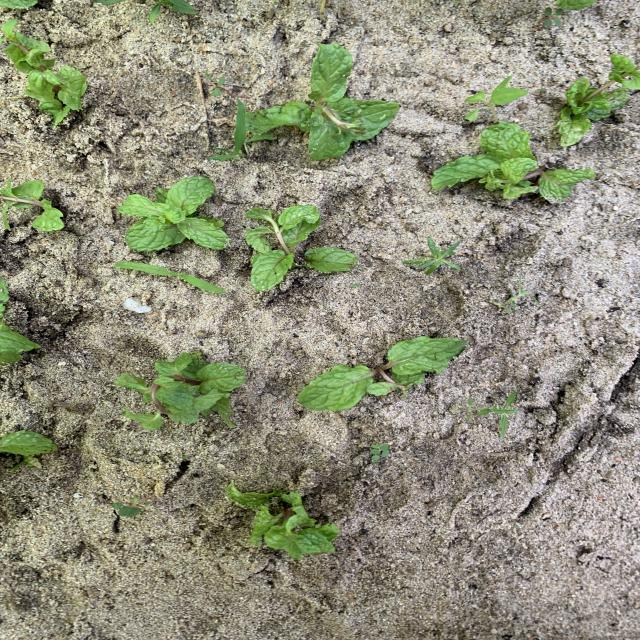crop: (249, 44, 400, 161), (431, 122, 594, 201), (298, 338, 466, 411), (116, 352, 246, 428), (245, 205, 357, 290), (2, 19, 87, 126), (227, 485, 339, 558), (118, 178, 229, 251), (557, 61, 635, 146), (0, 277, 39, 364), (1, 177, 63, 231), (1, 431, 55, 466), (557, 1, 595, 9), (0, 1, 37, 8)
weed: (115, 262, 224, 293), (464, 77, 528, 123), (207, 99, 247, 161), (467, 391, 518, 437), (405, 238, 461, 273), (492, 278, 527, 311), (149, 0, 196, 22), (112, 495, 150, 517), (540, 6, 563, 27), (205, 75, 228, 95), (370, 443, 390, 463), (351, 283, 359, 287)
